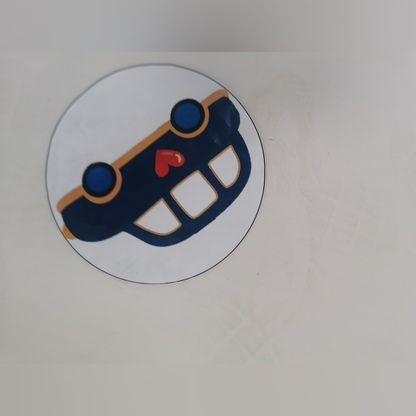car: (46, 80, 268, 276)
